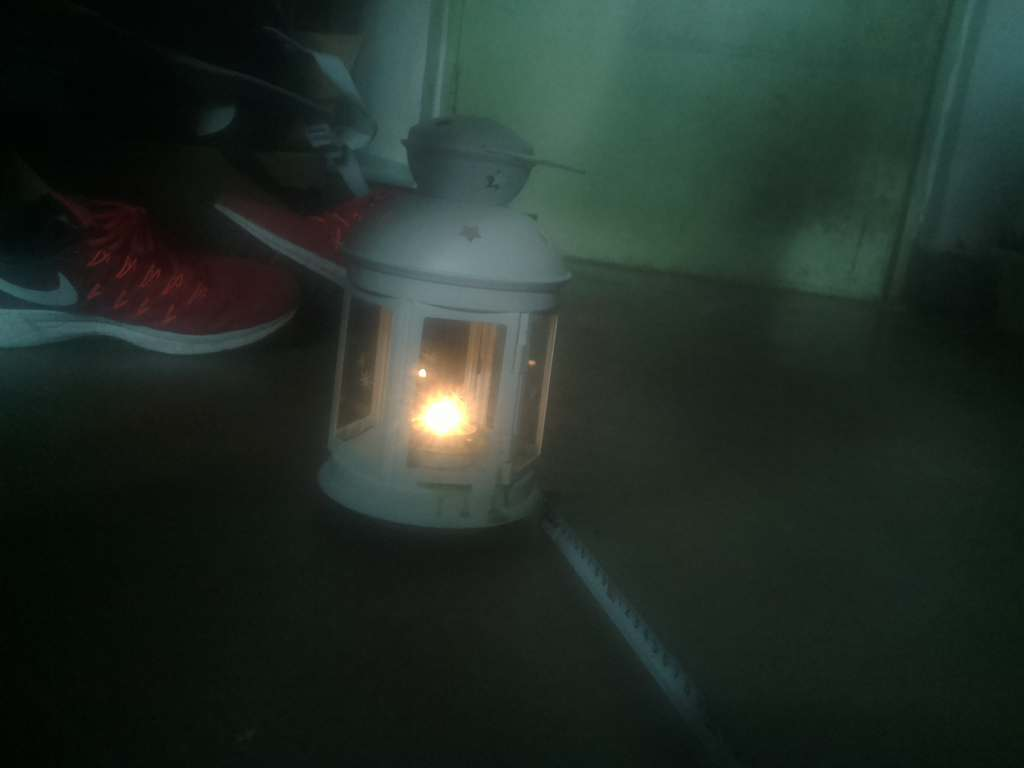fire: (376, 360, 498, 480)
